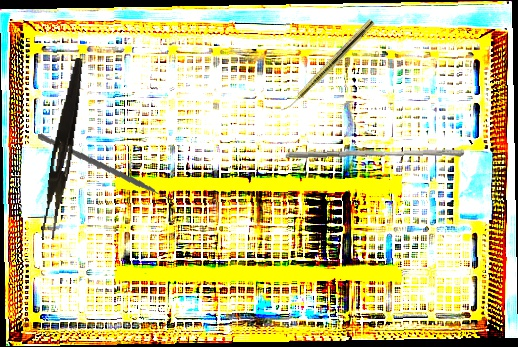Chopper: (37, 120, 174, 226)
Dressing Forceps: (40, 56, 86, 241)
Handpiece: (279, 17, 376, 117)
Pusher: (284, 142, 466, 166)
